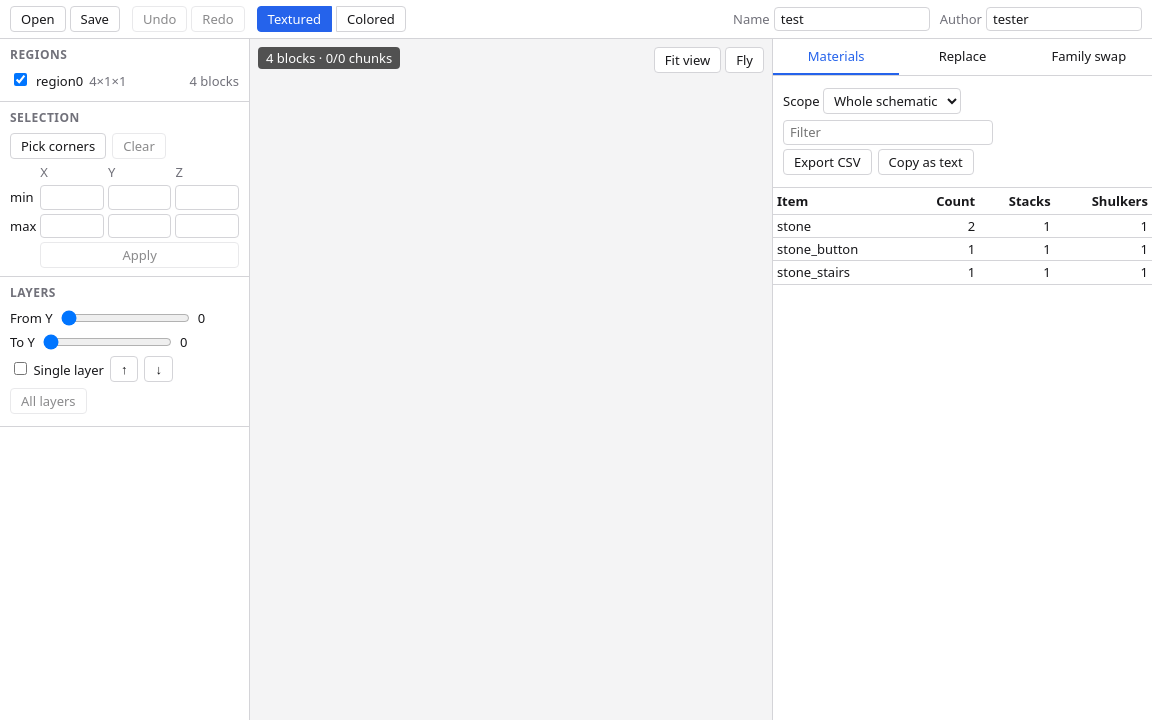
Family swap tab › refuses a family swapped for itself
Click the tab "Family swap" at (1089, 57), box [1026,39,1152,75]
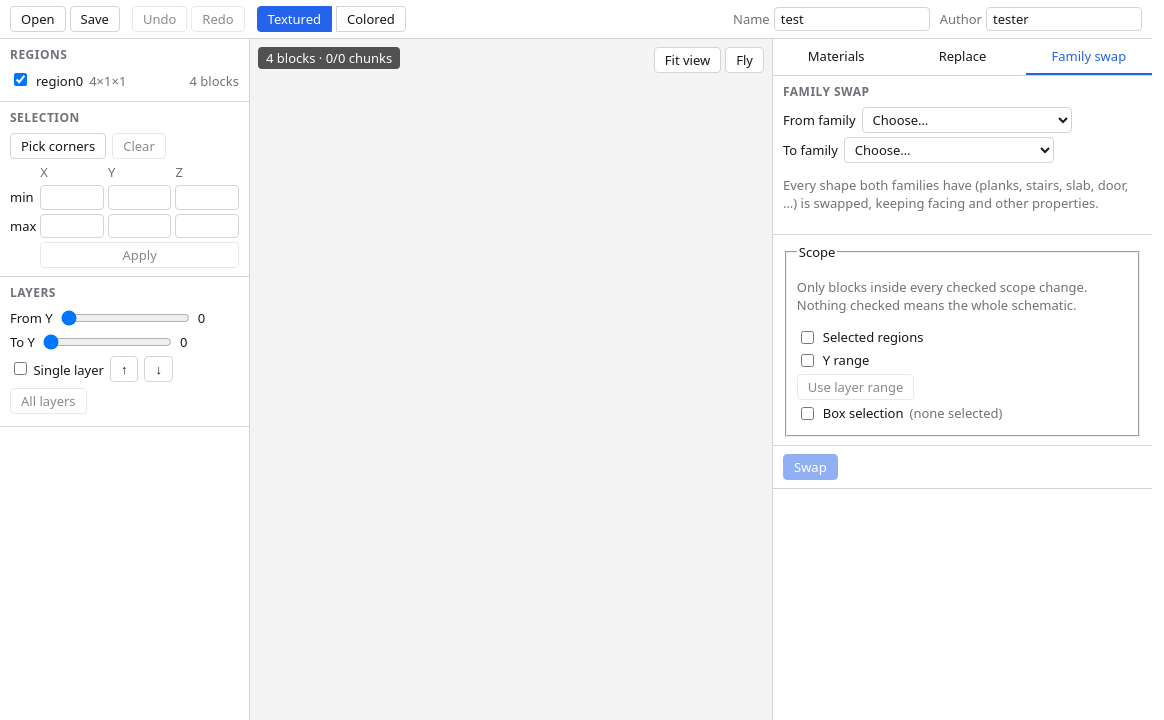
Select "Oak" in the dropdown labelled "From family" at (966, 120), box [862,107,1072,133]
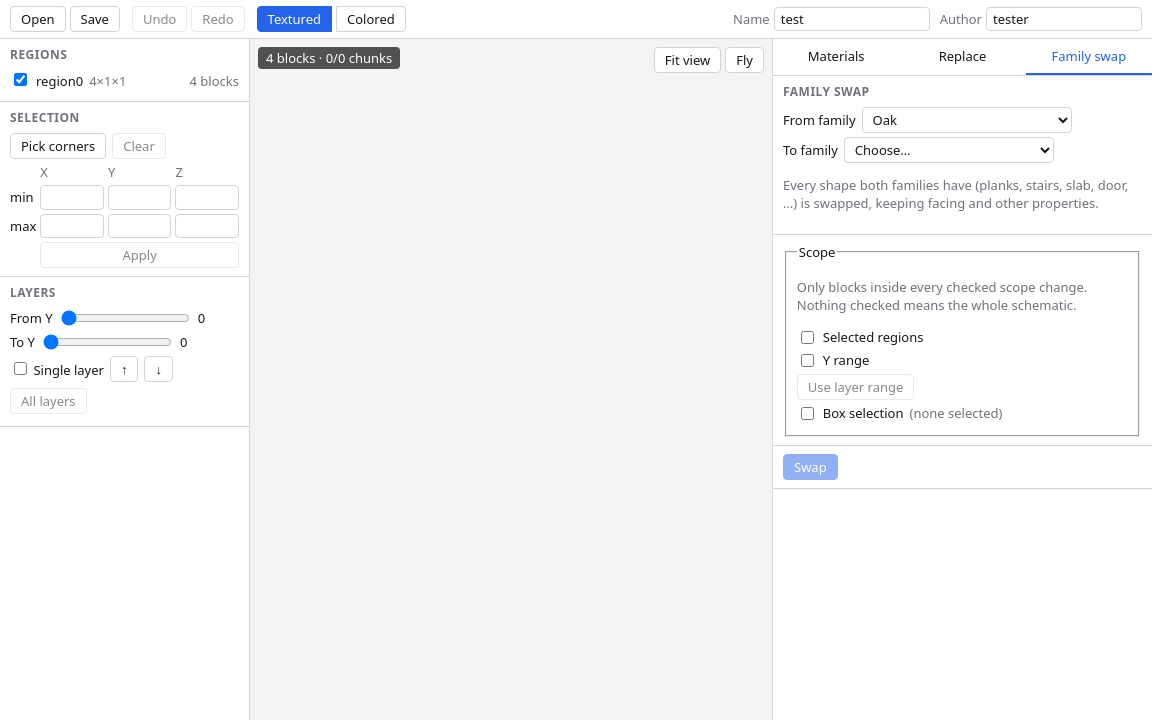
Select "Oak" in the dropdown labelled "To family" at (949, 150), box [844,137,1054,163]
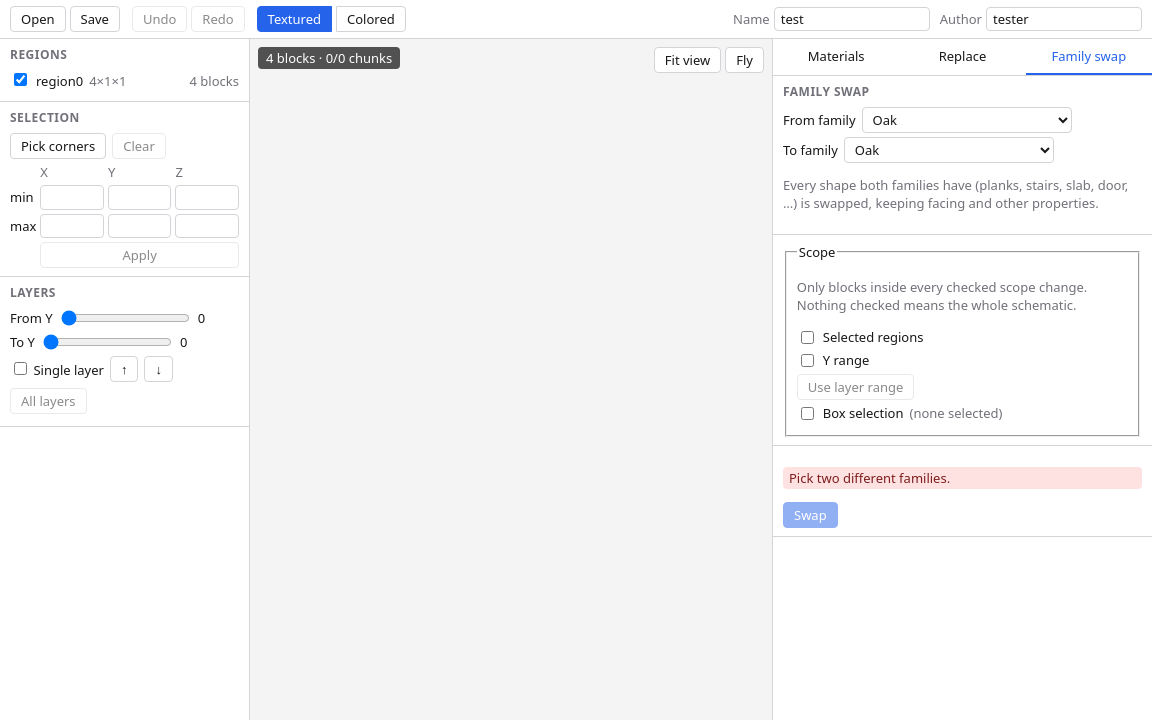
Check: the button "Swap" is disabled, box [783,502,838,528]
Check: the text "Pick two different families." is shown, box [783,467,1142,489]
